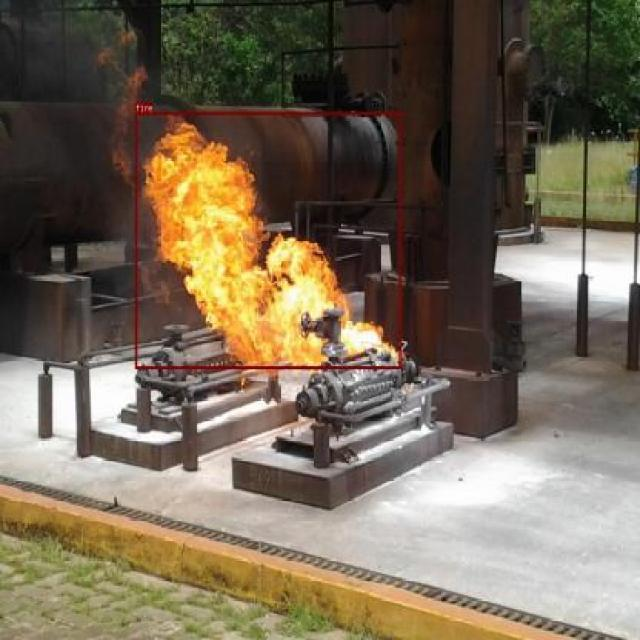Fire: (266, 240, 268, 257)
